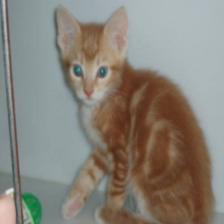cat: (53, 2, 140, 112)
